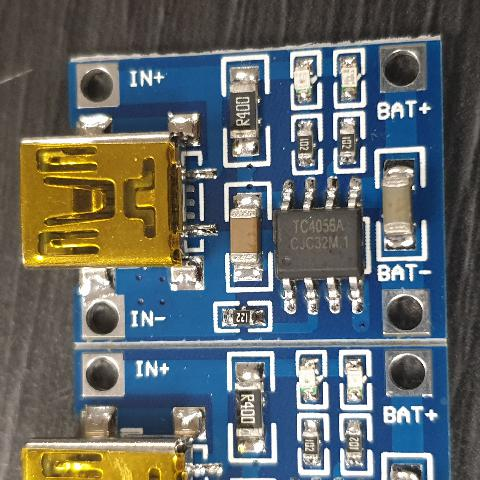batt+: (393, 348, 434, 398), (381, 42, 422, 87)
batt-: (388, 292, 430, 330)
charge: (293, 352, 332, 403), (288, 50, 317, 106)
done: (324, 46, 364, 106), (340, 354, 370, 407)
rprog: (212, 306, 260, 328)
usb: (24, 136, 176, 266)
